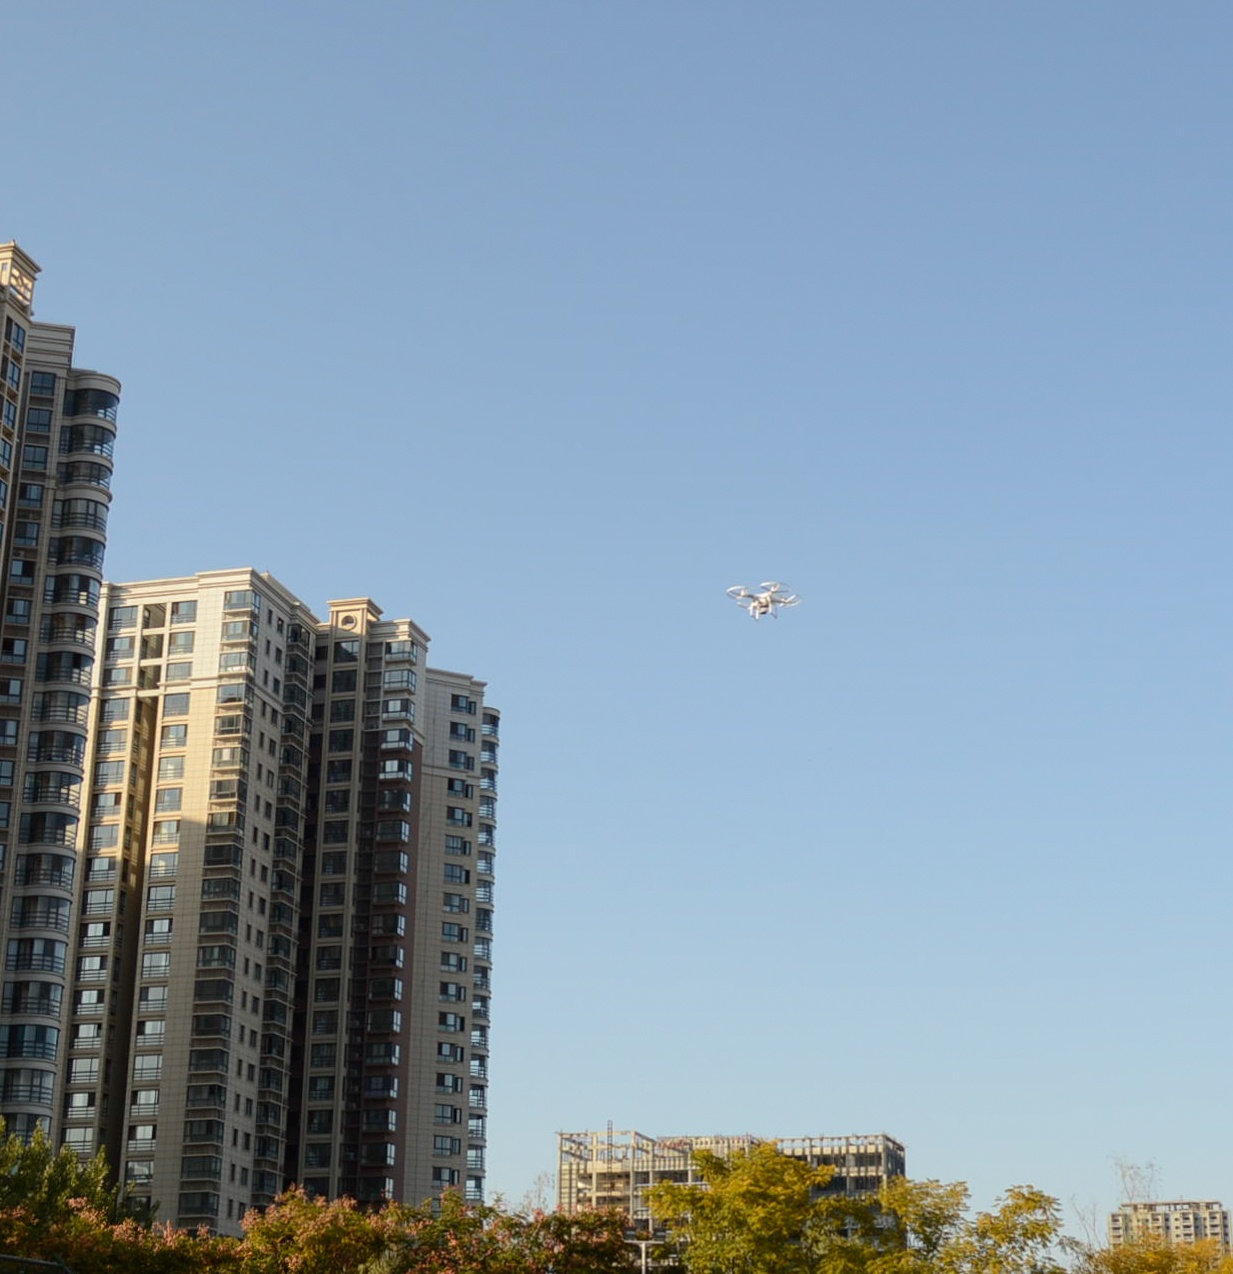DJI: (730, 576, 801, 623)
